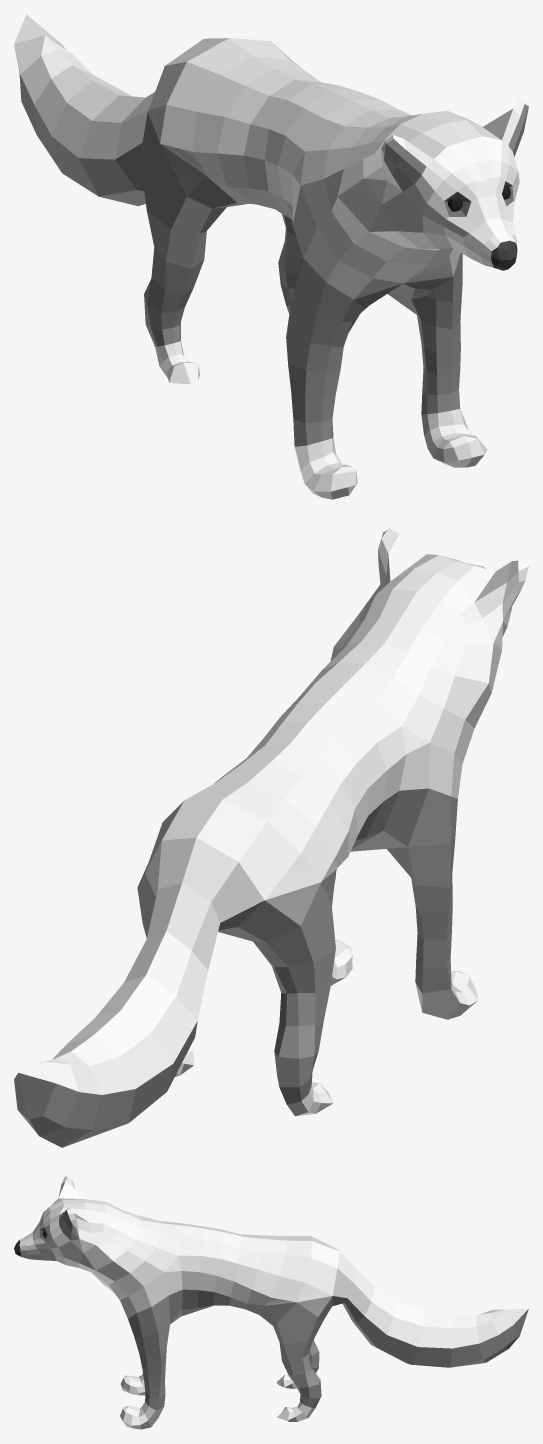
File: animal_010.fbx
3 views of the same model, one above another, from view 1: azimuth 30°, elevation 25°; view 2: azimuth 150°, elevation 25°; view 3: azimuth 270°, elevation 25° (orthographic). The views are drawn at different scales.
Parts seen in each view (by area): view 1: animal.010; view 2: animal.010; view 3: animal.010.
Part boxes in pixels (x1=…): animal.010: x1=14, y1=14, x2=528, y2=499; animal.010: x1=14, y1=528, x2=528, y2=1147; animal.010: x1=14, y1=1176, x2=528, y2=1429.
Size of the model in its own units: 74.56 by 168 by 361.
Materials: 1 (1 with a texture image).
